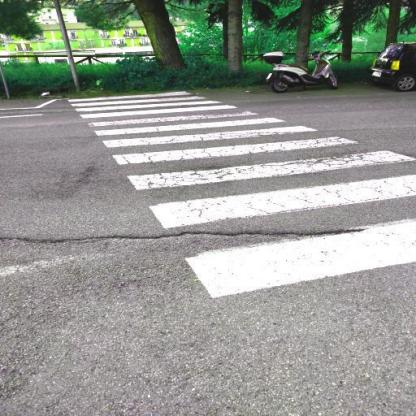crosswalk: (86, 134, 415, 193), (70, 94, 228, 116)
